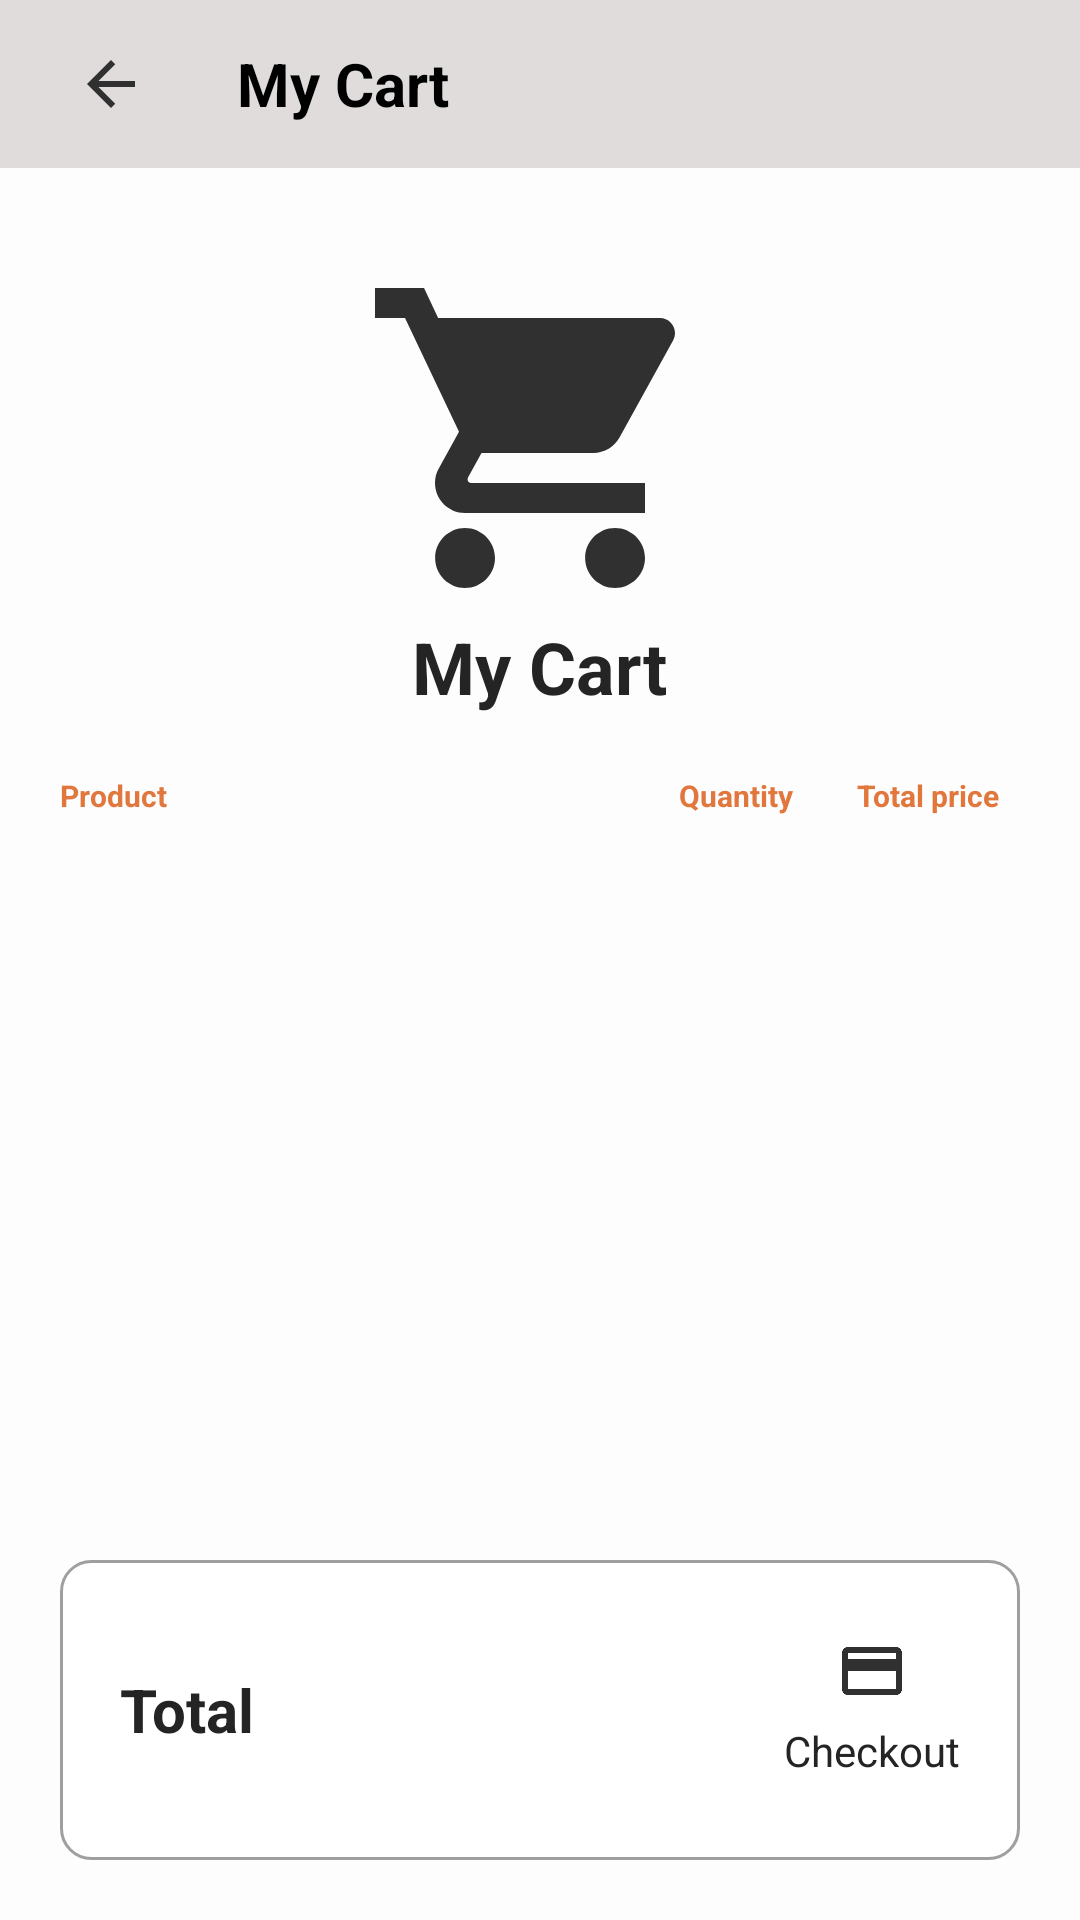

Where to tap for icons on this 1080x1920 app screen, as (x=x, y=y):
back: (x=111, y=84)
